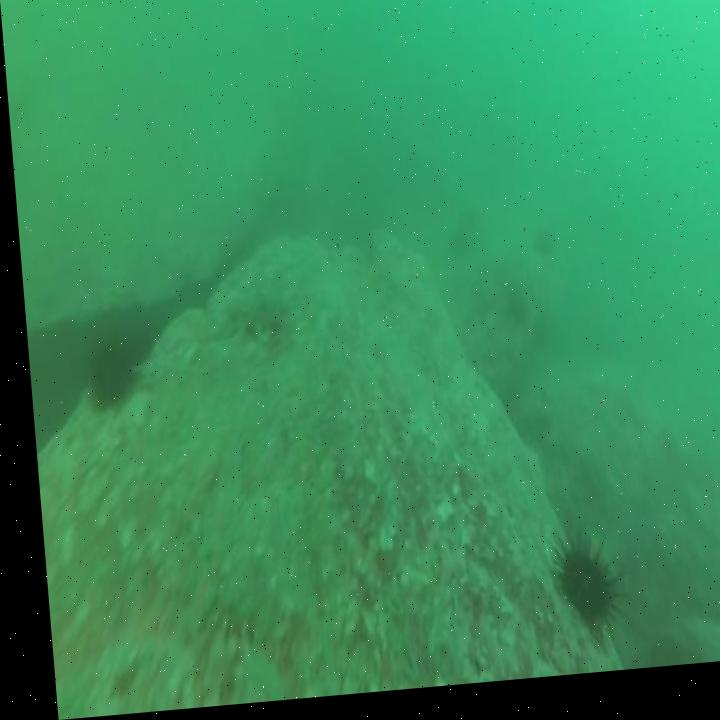echinus: (534, 525, 619, 662), (72, 334, 135, 416), (494, 283, 528, 339), (523, 231, 554, 272)
holothurian: (186, 575, 290, 685), (216, 287, 288, 349)
